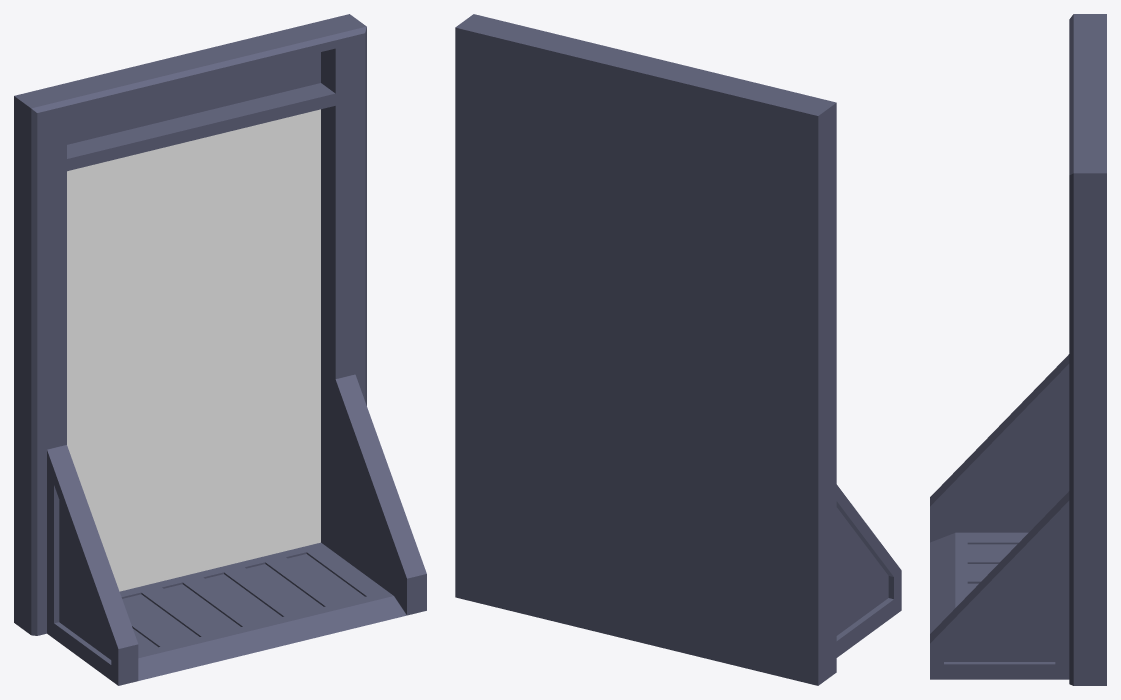
The model's file is door.fbx.
3 views of the same model, side by side, from view 1: azimuth 30°, elevation 25°; view 2: azimuth 150°, elevation 25°; view 3: azimuth 270°, elevation 25° (orthographic). The views are drawn at different scales.
Parts seen in each view (by area): view 1: Cube; view 2: Cube; view 3: Cube.
Boxes of the visible parts, x1,y1,x2,y2 form: Cube: (14, 14, 426, 685); Cube: (455, 14, 901, 685); Cube: (930, 14, 1106, 685).
Size of the model in its own units: 200 by 300 by 93.78.
